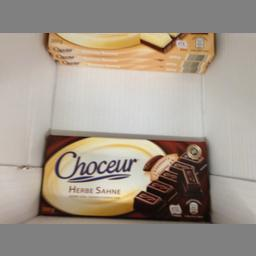chocolate: (38, 132, 212, 222), (47, 32, 214, 72)
